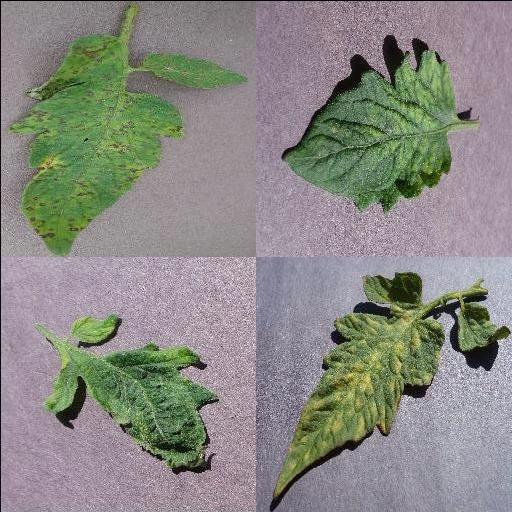Leaf Mold: (272, 270, 446, 498)
Mosaic Virus: (281, 46, 459, 214), (40, 311, 218, 469)
Septoria: (7, 31, 181, 255)
